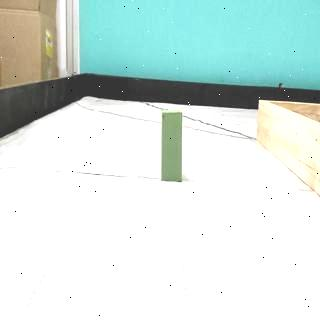greenbox: (161, 111, 183, 181)
